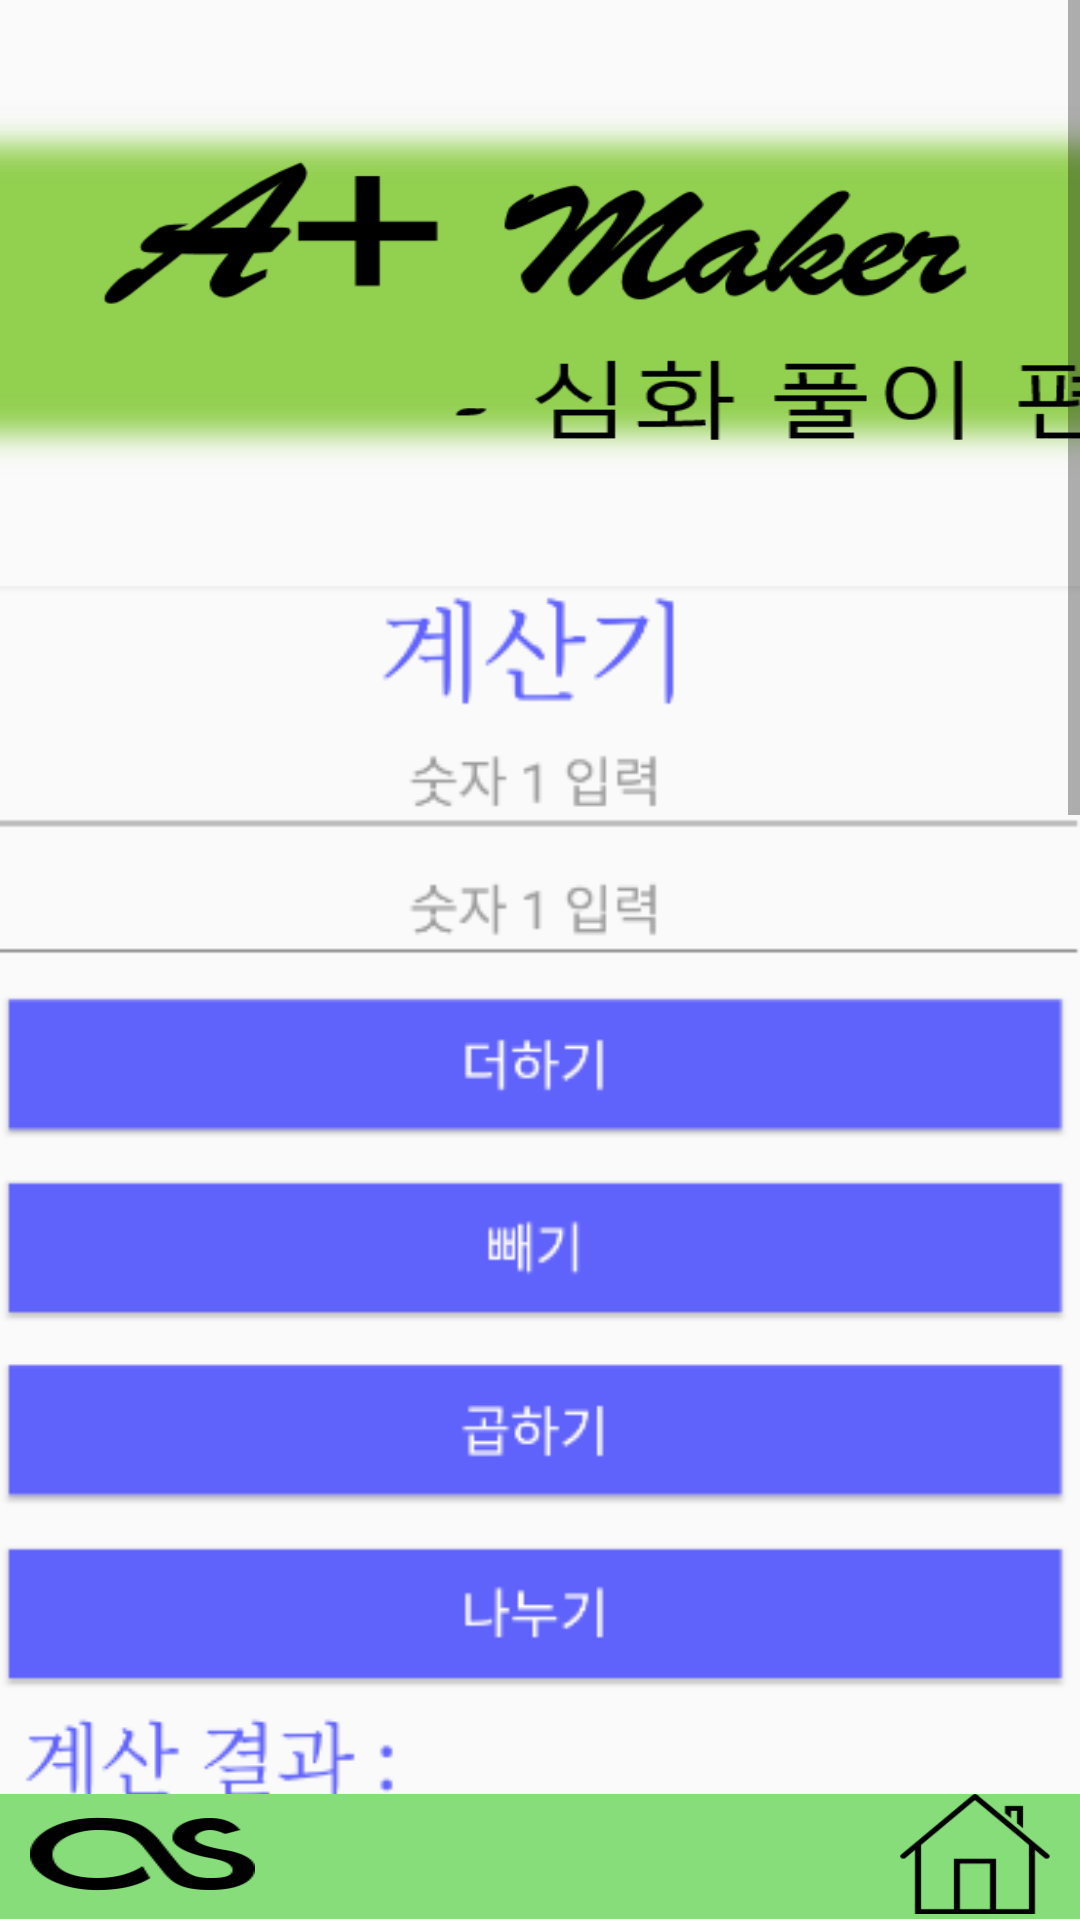

Icon bounding boxes for this 1080 x 1920 phone screenshot, format (x1, y1, x2, y2):
home: (900, 1794, 1050, 1914)
